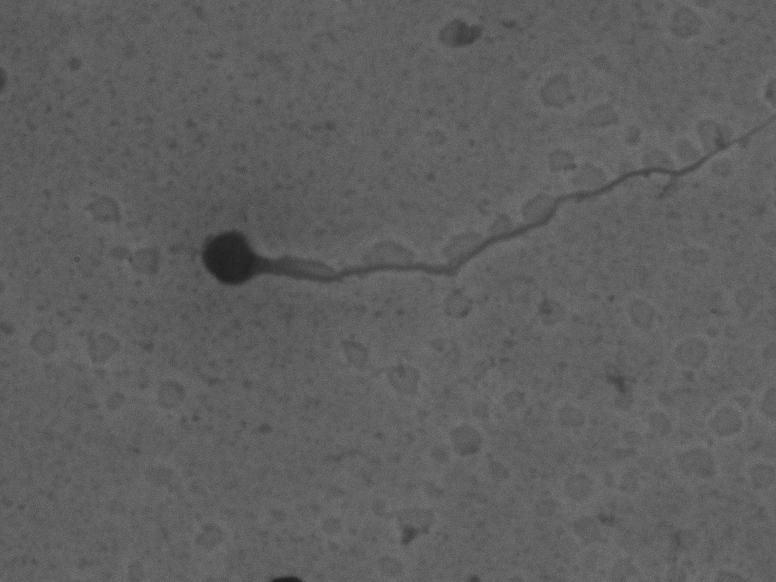Abnormal: (190, 112, 770, 302)
